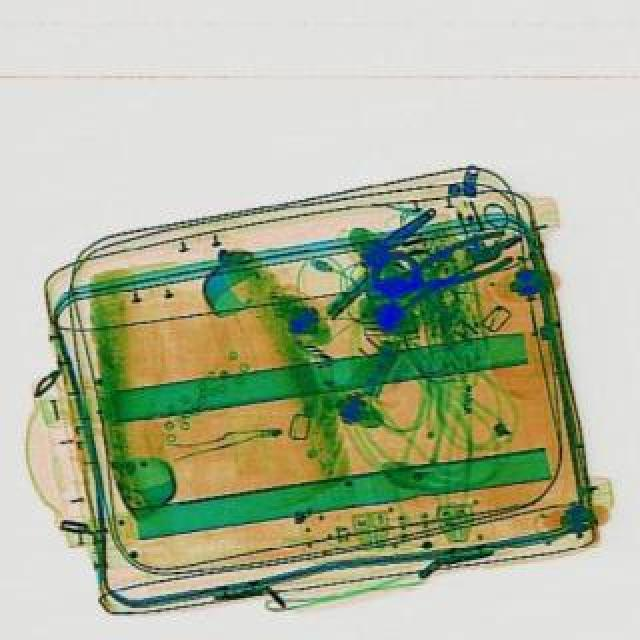wrench: (362, 224, 516, 310)
